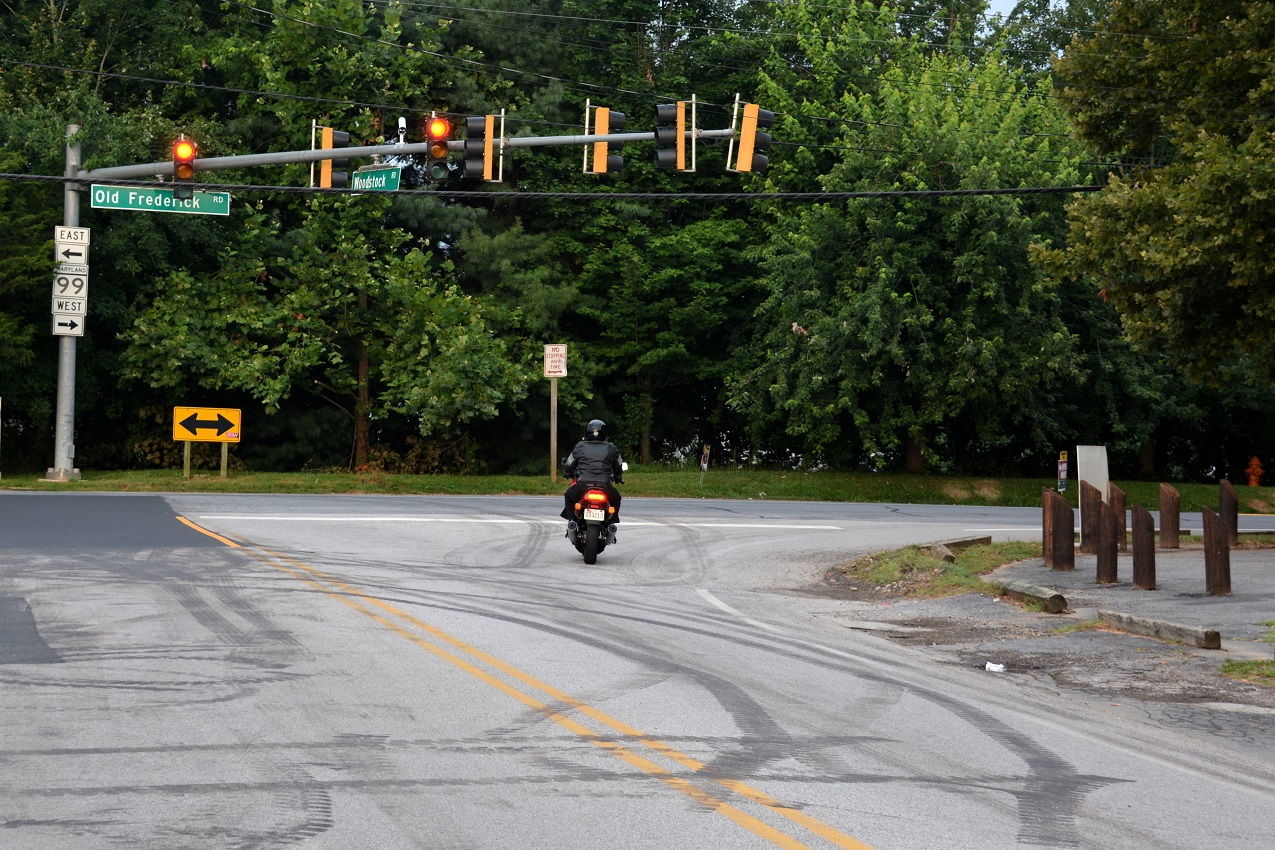traffic_light: (424, 117, 451, 183), (172, 138, 197, 202)
